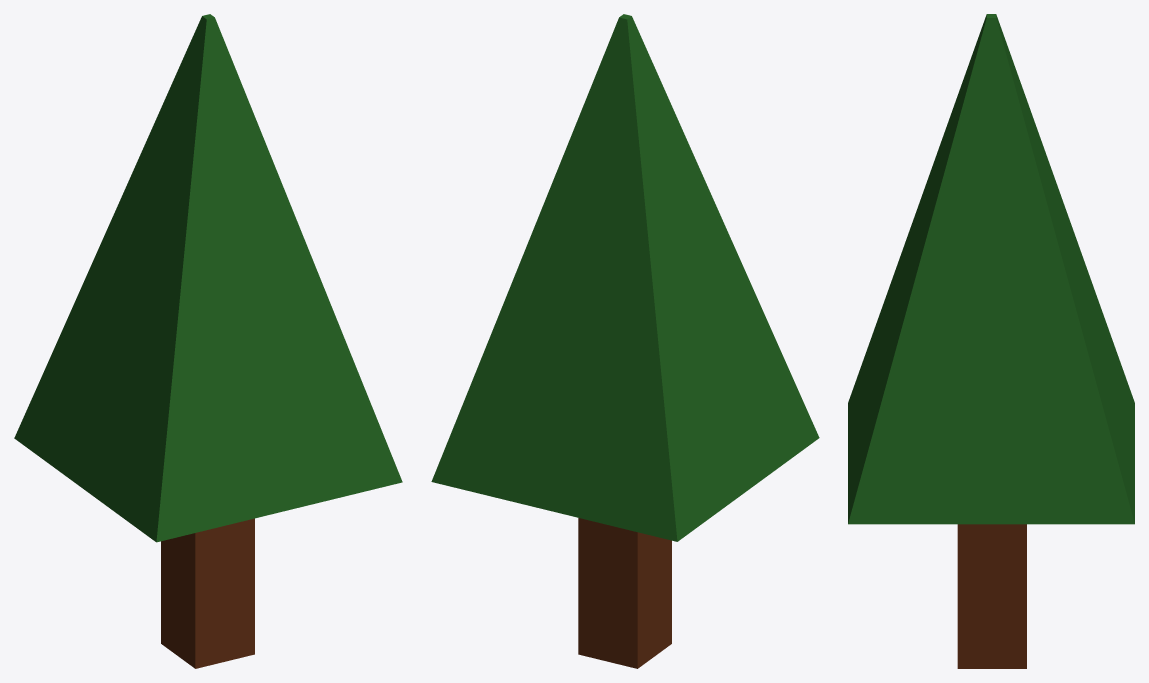
The model's file is Tree_Fixed(1).fbx.
3 renders of one model, left to right at view 1: azimuth 30°, elevation 25°; view 2: azimuth 150°, elevation 25°; view 3: azimuth 270°, elevation 25°, orthographic.
Visible parts, largest first — view 1: Cube.001; view 2: Cube.001; view 3: Cube.001.
Part boxes in pixels (x1,y1,x2,y2): Cube.001: [14, 14, 402, 668]; Cube.001: [431, 14, 819, 668]; Cube.001: [848, 14, 1134, 668].
Bounding box in the file's own units: 125 × 306 × 125.
